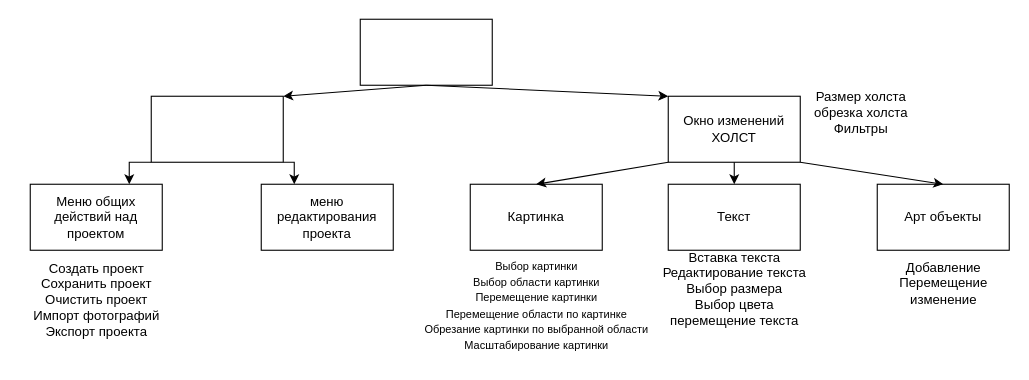
This 1029x380 diagram has some shape labels left out. The centre of each missing label's shape, as x and y in pixels:
"Меню действий" belongs at (216,128).
"Страница" belongs at (425,51).
